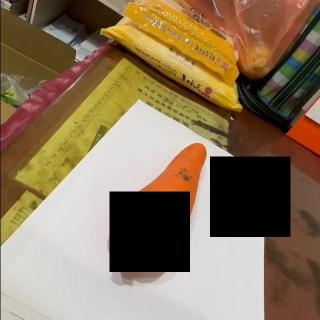carrot: (107, 142, 209, 272)
